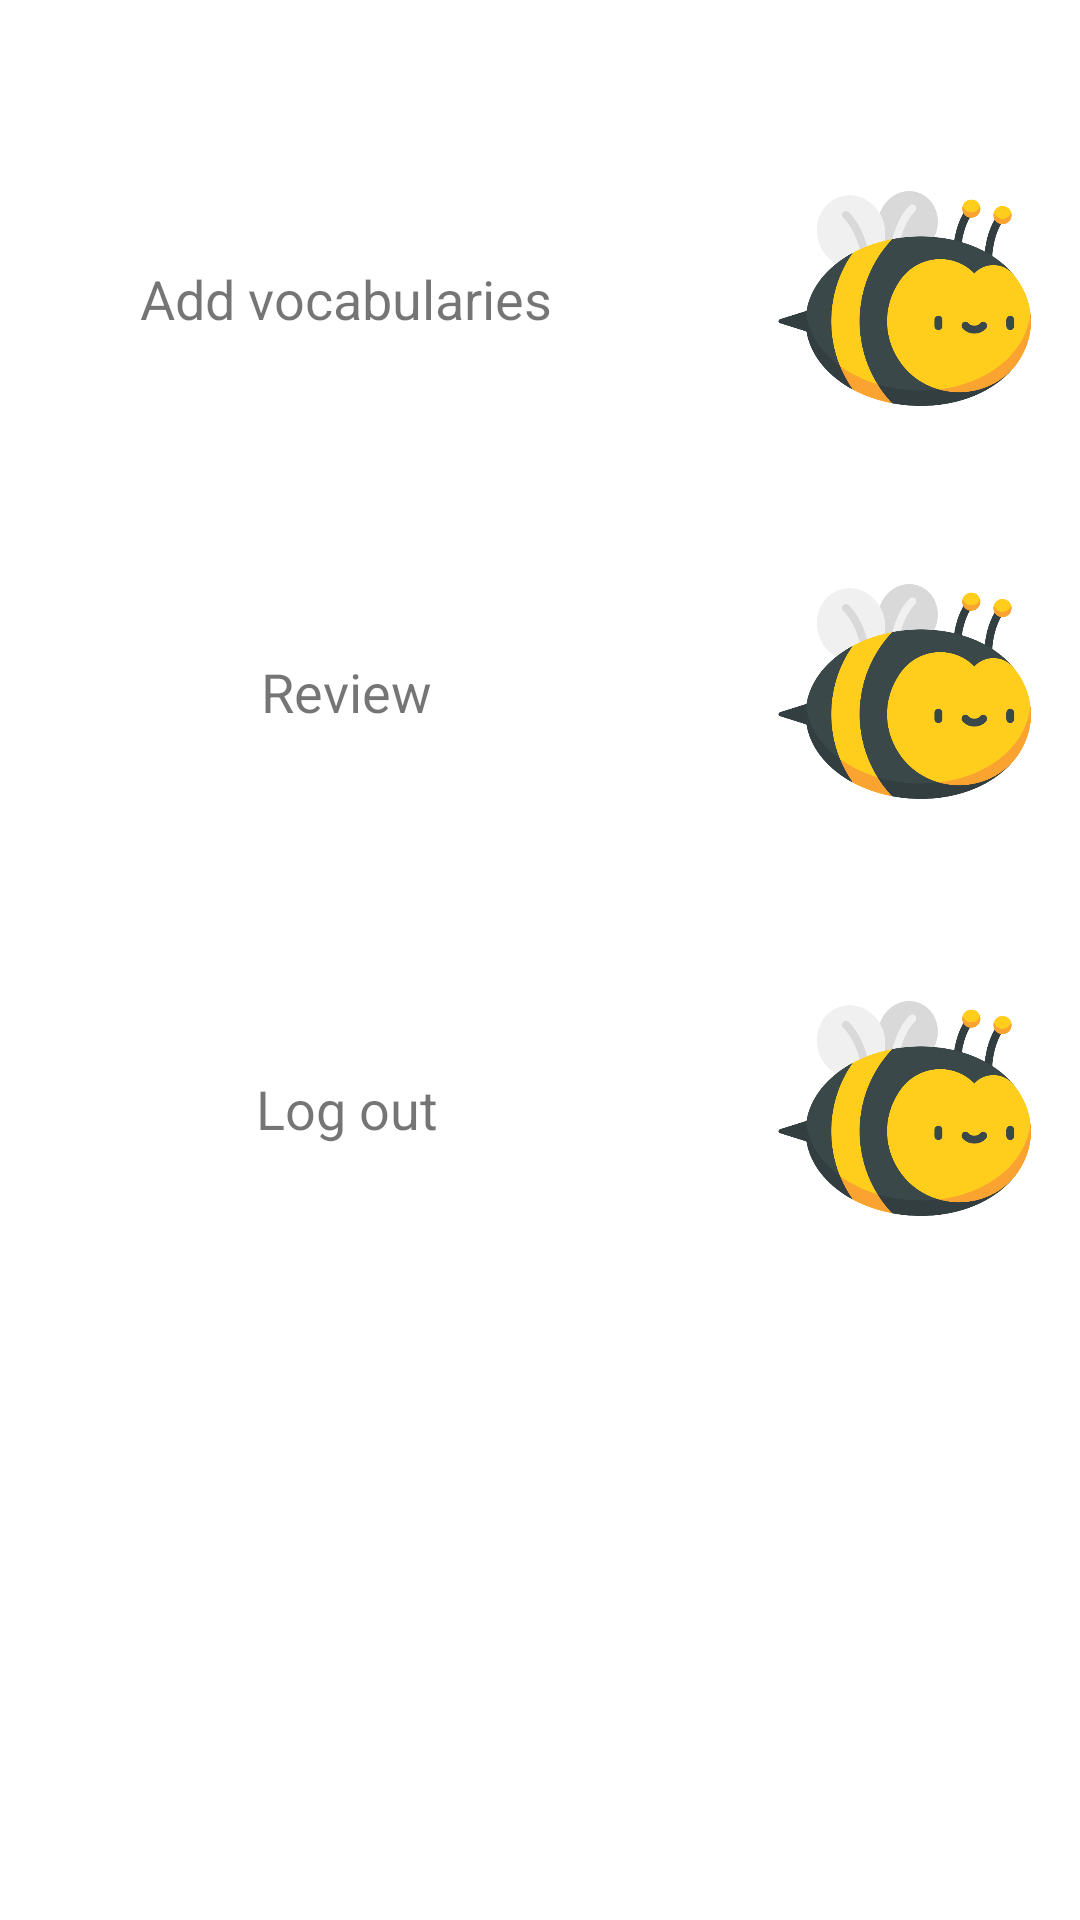

Named icons in this screenshot (1080w x 1920h) and their centers, (x,y):
beee: (904,298), (904,691), (904,1108)
